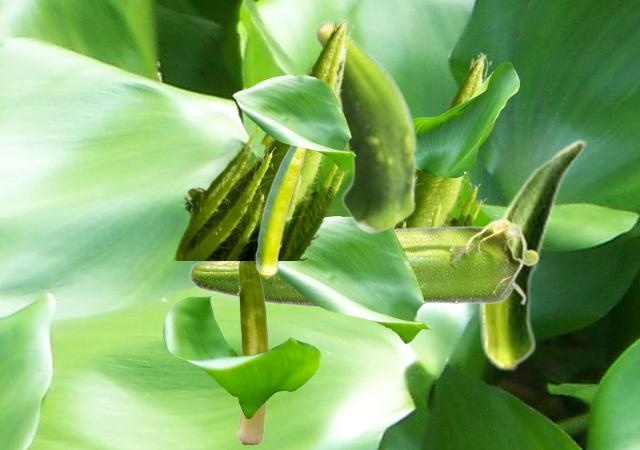okra: (171, 14, 354, 259), (188, 217, 538, 307), (337, 51, 491, 227), (477, 139, 585, 371), (313, 19, 418, 233), (255, 146, 307, 278), (237, 260, 268, 443)
